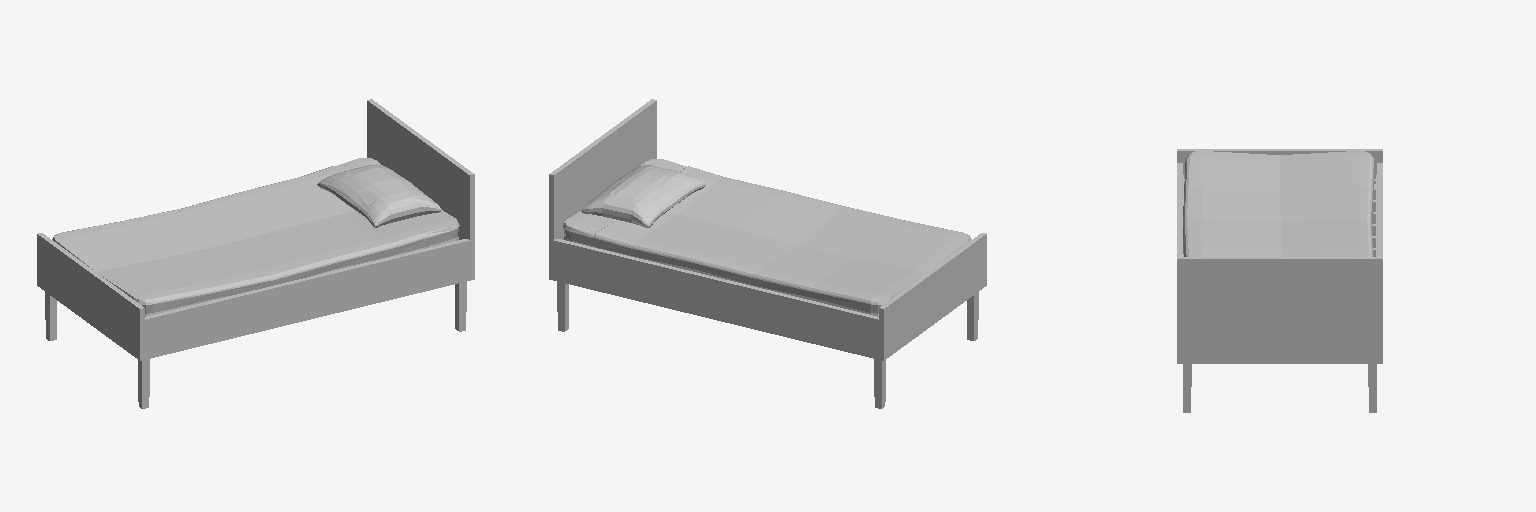
File: bed_3_b_2_made.obj
The picture shows the model from 3 angles: view 1: azimuth 30°, elevation 25°; view 2: azimuth 150°, elevation 25°; view 3: azimuth 270°, elevation 25°; orthographic projection.
Visible parts, largest first — view 1: bed_3_b_2_made; view 2: bed_3_b_2_made; view 3: bed_3_b_2_made.
Part boxes in pixels (left/top/right/bottom): bed_3_b_2_made: left=37, top=99, right=474, bottom=408; bed_3_b_2_made: left=549, top=99, right=986, bottom=408; bed_3_b_2_made: left=1177, top=149, right=1382, bottom=412.
Size of the model in its own units: 2.7 by 1.21 by 1.44.